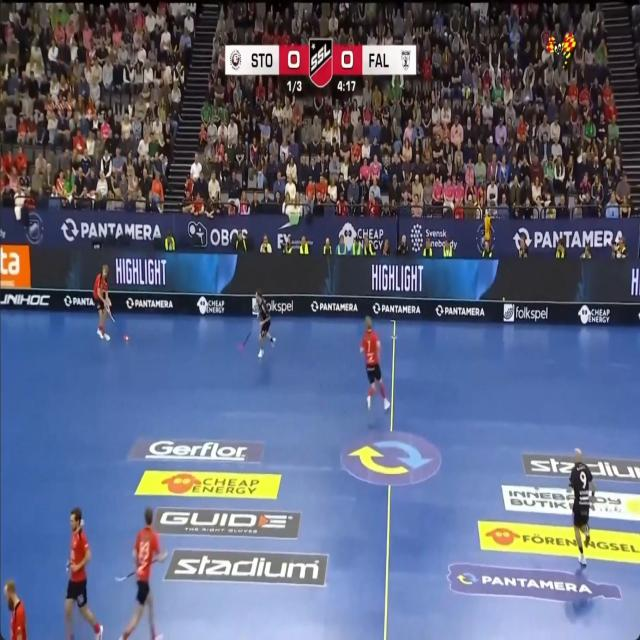Balls: (123, 334, 128, 341)
player: (120, 507, 166, 639), (64, 507, 103, 639), (569, 449, 594, 565), (360, 317, 390, 409), (4, 580, 27, 639), (256, 290, 275, 358), (93, 265, 110, 339)
stick: (115, 569, 136, 581), (242, 329, 252, 346), (107, 309, 114, 323), (151, 559, 157, 563)
